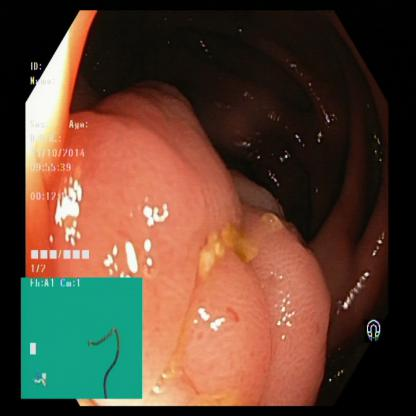Labels: (24, 55, 102, 278), (20, 278, 141, 399), (364, 319, 386, 345)
Polyps: (97, 129, 239, 279), (184, 255, 325, 403)
